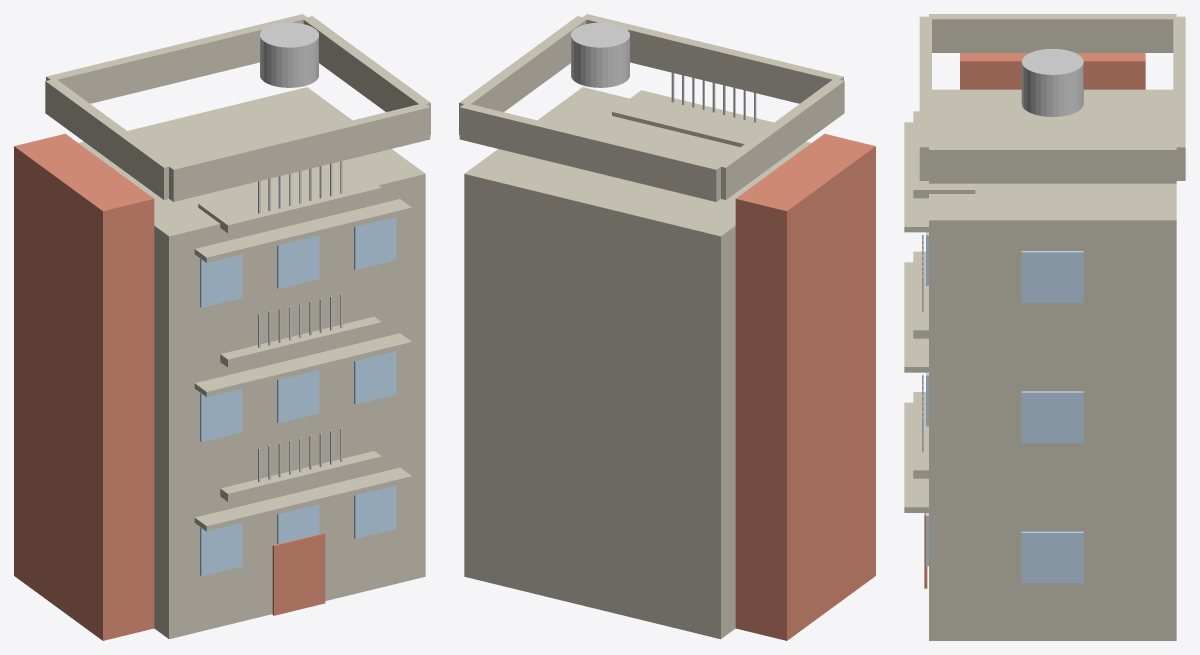
The model's file is house3.glb.
The picture shows the model from 3 angles, left to right: view 1: azimuth 30°, elevation 25°; view 2: azimuth 150°, elevation 25°; view 3: azimuth 270°, elevation 25°; orthographic projection. The views are drawn at different scales.
Parts seen in each view (by area): view 1: StairBlock, SecondFloor, FirstFloor, GroundFloor, FrontWall, BackWall, BalconyBase.002, Side1, Side2, Door, Shade.001, Shade (+13 smaller); view 2: StairBlock, SecondFloor, FirstFloor, GroundFloor, BackWall, FrontWall, Side1, BalconyBase.002, Side2, Cylinder; view 3: SecondFloor, GroundFloor, FirstFloor, Side2, Side1, StairBlock, Cylinder, SideW.001, SideW, SideW.002, BalconyBase.002, FrontWall (+6 smaller).
Part boxes in pixels (x1,y1,x2,y2): StairBlock: [14, 133, 154, 640]; SecondFloor: [78, 87, 425, 370]; FirstFloor: [154, 308, 425, 504]; GroundFloor: [154, 442, 425, 639]; FrontWall: [169, 103, 430, 201]; BackWall: [46, 14, 307, 103]; BalconyBase.002: [198, 166, 381, 233]; Side1: [45, 79, 173, 199]; Side2: [303, 16, 430, 134]; Door: [272, 532, 325, 615]; Shade.001: [194, 333, 411, 397]; Shade: [194, 467, 411, 531]; StairBlock: [735, 133, 875, 640]; SecondFloor: [464, 87, 811, 370]; FirstFloor: [464, 308, 735, 504]; GroundFloor: [464, 442, 735, 639]; BackWall: [459, 103, 721, 201]; FrontWall: [582, 14, 843, 103]; Side1: [716, 79, 844, 199]; BalconyBase.002: [612, 90, 773, 147]; Side2: [459, 16, 586, 134]; Cylinder: [571, 22, 629, 87]; SecondFloor: [929, 89, 1176, 360]; GroundFloor: [929, 500, 1176, 640]; FirstFloor: [929, 360, 1176, 500]; Side2: [929, 144, 1176, 183]; Side1: [929, 14, 1176, 52]; StairBlock: [960, 53, 1145, 89]; Cylinder: [1021, 48, 1083, 116]; SideW.001: [1021, 391, 1083, 443]; SideW: [1021, 531, 1083, 583]; SideW.002: [1021, 251, 1083, 302]; BalconyBase.002: [913, 111, 975, 198]; FrontWall: [919, 16, 931, 180].
Size of the model in its own units: 12.2 by 19.25 by 9.1.
